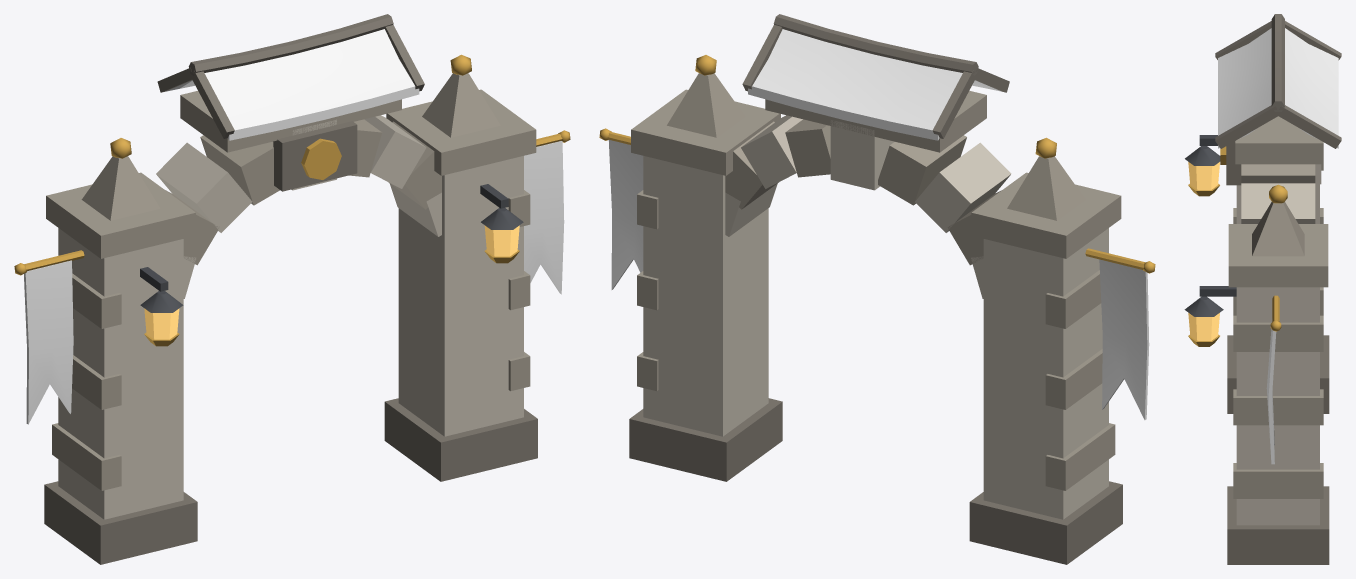
File: village-gate-stone.glb
3 renders of one model, left to right at view 1: azimuth 30°, elevation 25°; view 2: azimuth 150°, elevation 25°; view 3: azimuth 270°, elevation 25°, orthographic. The views are drawn at different scales.
Parts seen in each view (by area): view 1: Part_StoneLight, Part_StoneMid, Part_RoofTint, Part_StoneDark, Part_Brass, Part_Iron, Part_WindowGlow; view 2: Part_StoneLight, Part_StoneMid, Part_RoofTint, Part_StoneDark, Part_Brass; view 3: Part_StoneMid, Part_StoneLight, Part_StoneDark, Part_RoofTint, Part_Iron, Part_WindowGlow, Part_Brass.
Boxes of the visible parts, left/top/right/bottom form: Part_StoneLight: left=58, top=115, right=523, bottom=519; Part_StoneMid: left=46, top=73, right=536, bottom=490; Part_RoofTint: left=24, top=29, right=564, bottom=424; Part_StoneDark: left=44, top=14, right=537, bottom=564; Part_Brass: left=14, top=54, right=570, bottom=346; Part_Iron: left=140, top=184, right=523, bottom=312; Part_WindowGlow: left=144, top=225, right=519, bottom=339; Part_StoneLight: left=643, top=115, right=1108, bottom=519; Part_StoneMid: left=631, top=73, right=1121, bottom=490; Part_RoofTint: left=608, top=29, right=1149, bottom=420; Part_StoneDark: left=629, top=14, right=1122, bottom=564; Part_Brass: left=599, top=55, right=1155, bottom=273; Part_StoneMid: left=1228, top=116, right=1328, bottom=498; Part_StoneLight: left=1236, top=164, right=1321, bottom=525; Part_StoneDark: left=1215, top=14, right=1341, bottom=564; Part_RoofTint: left=1218, top=28, right=1338, bottom=464; Part_Iron: left=1184, top=135, right=1236, bottom=316; Part_WindowGlow: left=1188, top=162, right=1219, bottom=340; Part_Brass: left=1188, top=146, right=1287, bottom=346.
Bounding box in the file's own units: 5.02 × 3.91 × 1.35.
